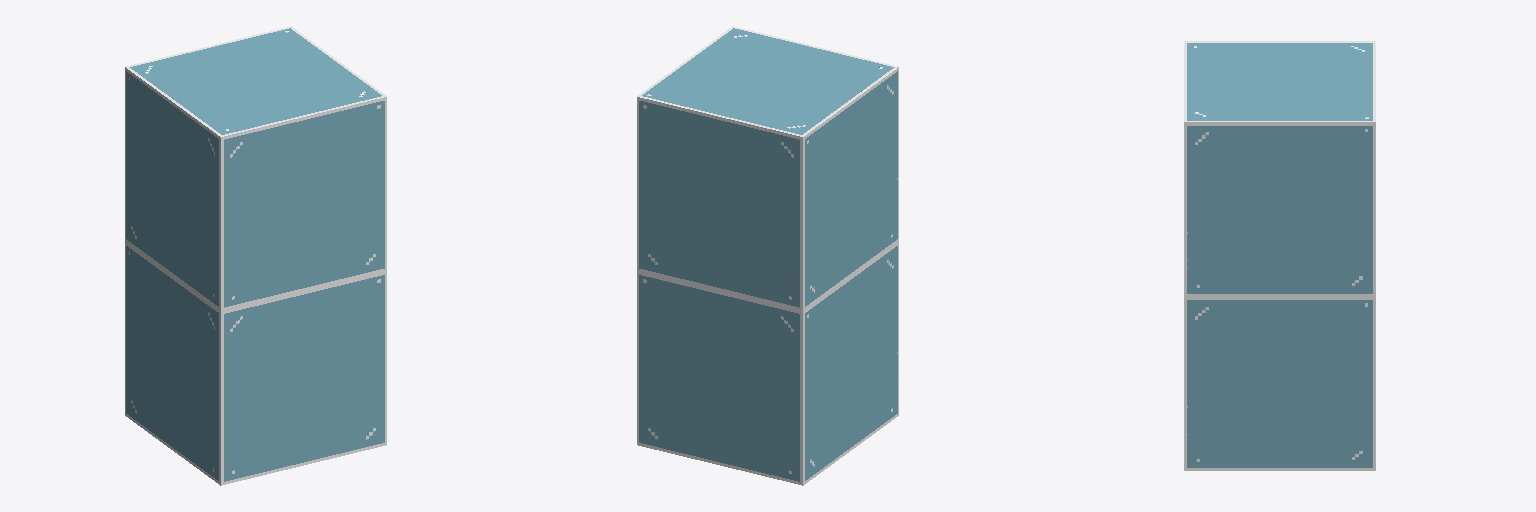
3 views of the same model, side by side, from view 1: azimuth 30°, elevation 25°; view 2: azimuth 150°, elevation 25°; view 3: azimuth 270°, elevation 25° (orthographic).
Visible parts, largest first — view 1: pasted__pCube1; view 2: pasted__pCube1; view 3: pasted__pCube1.
Boxes of the visible parts, <box> form: pasted__pCube1: <box>125,26,386,485</box>; pasted__pCube1: <box>637,26,898,485</box>; pasted__pCube1: <box>1184,41,1375,470</box>.
Size of the model in its own units: 1 by 2 by 1.
Materials: 1 (1 with a texture image).